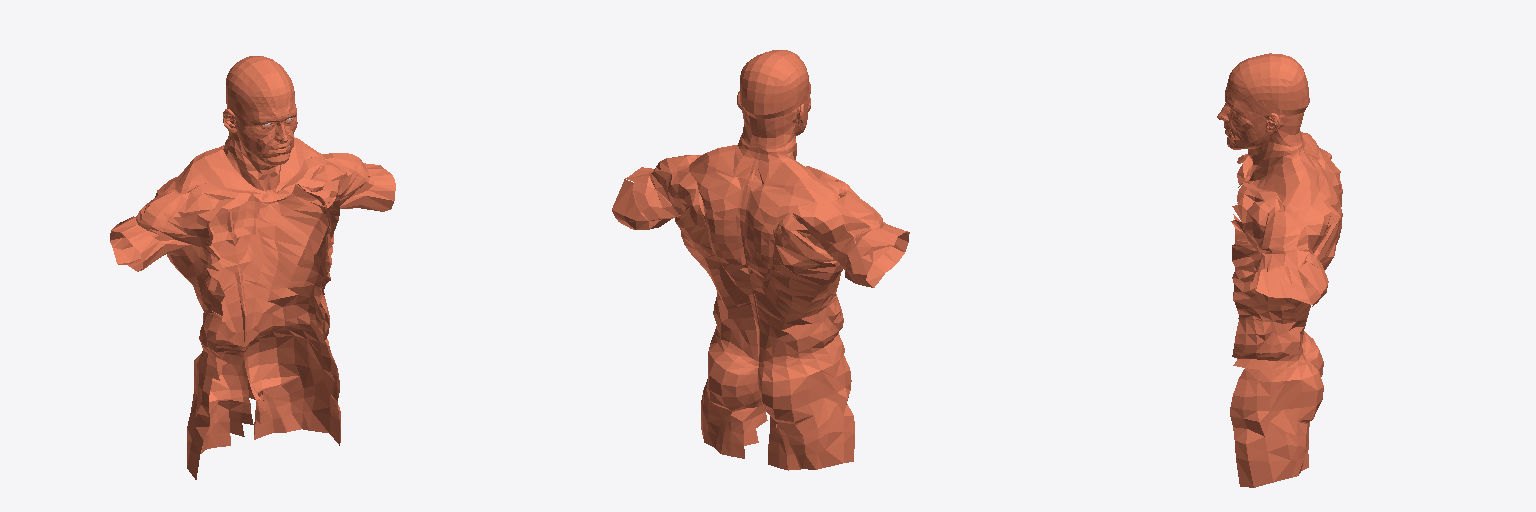
The model's file is bodyfinal.obj.
3 renders of one model, left to right at view 1: azimuth 30°, elevation 25°; view 2: azimuth 150°, elevation 25°; view 3: azimuth 270°, elevation 25°, orthographic.
Visible parts, largest first — view 1: BODYBUILDER__MEDIUM; view 2: BODYBUILDER__MEDIUM; view 3: BODYBUILDER__MEDIUM.
Boxes of the visible parts, box(x1,y1,x2,y2) form: BODYBUILDER__MEDIUM: box(110, 56, 395, 479); BODYBUILDER__MEDIUM: box(612, 50, 909, 470); BODYBUILDER__MEDIUM: box(1217, 53, 1342, 487).
Size of the model in its own units: 34.32 by 48.09 by 13.73.